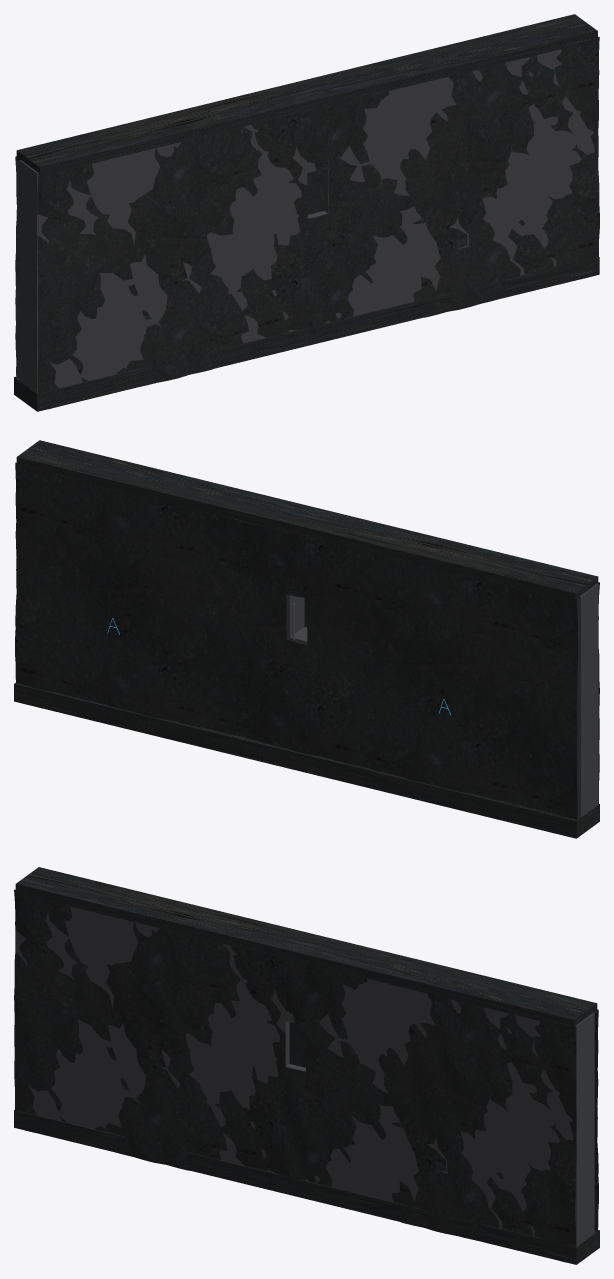
Rendered from arcanista_rear_preview.glb.
3 views of the same model, one above another, from view 1: azimuth 30°, elevation 25°; view 2: azimuth 150°, elevation 25°; view 3: azimuth 330°, elevation 25° (orthographic).
Visible parts, largest first — view 1: ASSET_REAR_REAR_FULL_2.04_INTERIOR, ASSET_REAR_REAR_FULL_-2.04_INTERIOR, ASSET_REAR_REAR_CORE_FULL_2.04, ASSET_REAR_REAR_CORE_FULL_-2.04, ASSET_REAR_REAR_CONTINUOUS_ROOFBED, ASSET_REAR_REAR_CONCEALED_FOUNDATION, ASSET_REAR_REAR_LOW_0.0_INTERIOR, ASSET_REAR_REAR_HIGH_0.0_INTERIOR, ASSET_REAR_REAR_FULL_2.04_EXTERIOR, ASSET_REAR_REAR_SLOT_DEPTH_0.0; view 2: ASSET_REAR_REAR_FULL_-2.04_EXTERIOR, ASSET_REAR_REAR_FULL_2.04_EXTERIOR, ASSET_REAR_REAR_CONTINUOUS_ROOFBED, ASSET_REAR_REAR_CONCEALED_FOUNDATION, ASSET_REAR_REAR_CORE_FULL_2.04, ASSET_REAR_REAR_LOW_0.0_EXTERIOR, ASSET_REAR_REAR_HIGH_0.0_EXTERIOR, ASSET_REAR_REAR_CORE_FULL_-2.04; view 3: ASSET_REAR_REAR_FULL_2.04_INTERIOR, ASSET_REAR_REAR_FULL_-2.04_INTERIOR, ASSET_REAR_REAR_CORE_FULL_-2.04, ASSET_REAR_REAR_CORE_FULL_2.04, ASSET_REAR_REAR_CONTINUOUS_ROOFBED, ASSET_REAR_REAR_CONCEALED_FOUNDATION, ASSET_REAR_REAR_LOW_0.0_INTERIOR, ASSET_REAR_REAR_HIGH_0.0_INTERIOR, ASSET_REAR_REAR_FULL_-2.04_EXTERIOR, ASSET_REAR_REAR_SLOT_DEPTH_0.0.
Boxes of the visible parts, x1,y1,x2,y2 form: ASSET_REAR_REAR_FULL_2.04_INTERIOR: (37,110,308,408); ASSET_REAR_REAR_FULL_-2.04_INTERIOR: (328,37,599,321); ASSET_REAR_REAR_CORE_FULL_2.04: (19,125,307,393); ASSET_REAR_REAR_CORE_FULL_-2.04: (324,36,598,322); ASSET_REAR_REAR_CONTINUOUS_ROOFBED: (16,14,597,174); ASSET_REAR_REAR_CONCEALED_FOUNDATION: (14,257,599,411); ASSET_REAR_REAR_LOW_0.0_INTERIOR: (308,214,329,333); ASSET_REAR_REAR_HIGH_0.0_INTERIOR: (307,104,328,170); ASSET_REAR_REAR_FULL_2.04_EXTERIOR: (15,156,19,378); ASSET_REAR_REAR_SLOT_DEPTH_0.0: (307,170,323,214); ASSET_REAR_REAR_FULL_-2.04_EXTERIOR: (15,462,286,748); ASSET_REAR_REAR_FULL_2.04_EXTERIOR: (306,537,578,819); ASSET_REAR_REAR_CONTINUOUS_ROOFBED: (16,440,598,602); ASSET_REAR_REAR_CONCEALED_FOUNDATION: (14,683,599,838); ASSET_REAR_REAR_CORE_FULL_2.04: (576,583,598,817); ASSET_REAR_REAR_LOW_0.0_EXTERIOR: (285,640,306,753); ASSET_REAR_REAR_HIGH_0.0_EXTERIOR: (286,532,307,598); ASSET_REAR_REAR_CORE_FULL_-2.04: (285,548,304,731); ASSET_REAR_REAR_FULL_2.04_INTERIOR: (14,889,285,1175); ASSET_REAR_REAR_FULL_-2.04_INTERIOR: (304,961,576,1262); ASSET_REAR_REAR_CORE_FULL_-2.04: (306,979,594,1246); ASSET_REAR_REAR_CORE_FULL_2.04: (15,889,289,1172); ASSET_REAR_REAR_CONTINUOUS_ROOFBED: (15,867,597,1029); ASSET_REAR_REAR_CONCEALED_FOUNDATION: (14,1110,599,1264); ASSET_REAR_REAR_LOW_0.0_INTERIOR: (284,1067,306,1184); ASSET_REAR_REAR_HIGH_0.0_INTERIOR: (284,956,305,1026); ASSET_REAR_REAR_FULL_-2.04_EXTERIOR: (594,1009,598,1230); ASSET_REAR_REAR_SLOT_DEPTH_0.0: (289,1022,306,1067).
Size of the model in its own units: 7.89 by 3.28 by 0.6492.
Materials: 5 (2 with a texture image).
